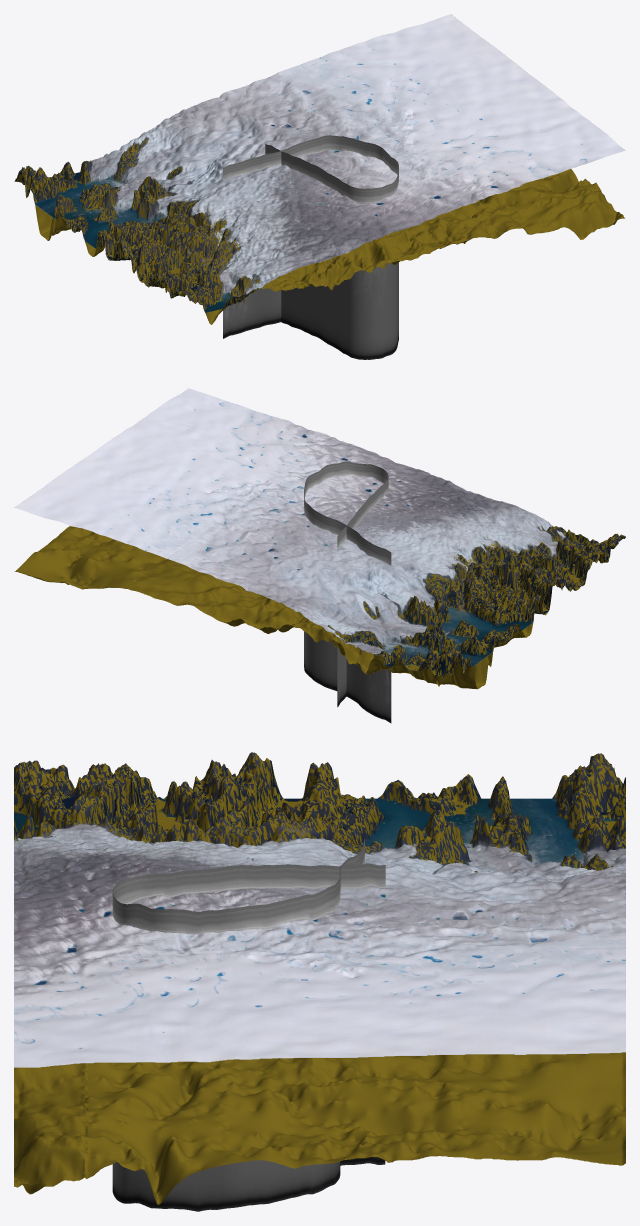
Rendered from 2012-04-21_052-053_wSentinel&Bed.opt.glb.
3 views of the same model, one above another, from view 1: azimuth 30°, elevation 25°; view 2: azimuth 150°, elevation 25°; view 3: azimuth 270°, elevation 25° (orthographic). The views are drawn at different scales.
Visible parts, largest first — view 1: surface, bedrock, Data_20120421_01_052, Data_20120421_01_053; view 2: surface, bedrock, Data_20120421_01_053, Data_20120421_01_052; view 3: surface, bedrock, Data_20120421_01_053, Data_20120421_01_052.
Boxes of the visible parts, x1,y1,x2,y2 form: surface: (14,14,625,312); bedrock: (15,138,625,324); Data_20120421_01_052: (265,144,384,359); Data_20120421_01_053: (223,135,398,358); surface: (14,388,625,676); bedrock: (14,526,625,689); Data_20120421_01_053: (304,461,391,723); Data_20120421_01_052: (337,465,388,707); surface: (14,752,625,1067); bedrock: (14,753,625,1204); Data_20120421_01_053: (112,839,364,1211); Data_20120421_01_052: (113,863,385,1165).
Bounding box in the file's own units: 12731 × 5476 × 8812.
4 materials, 3 textured.
